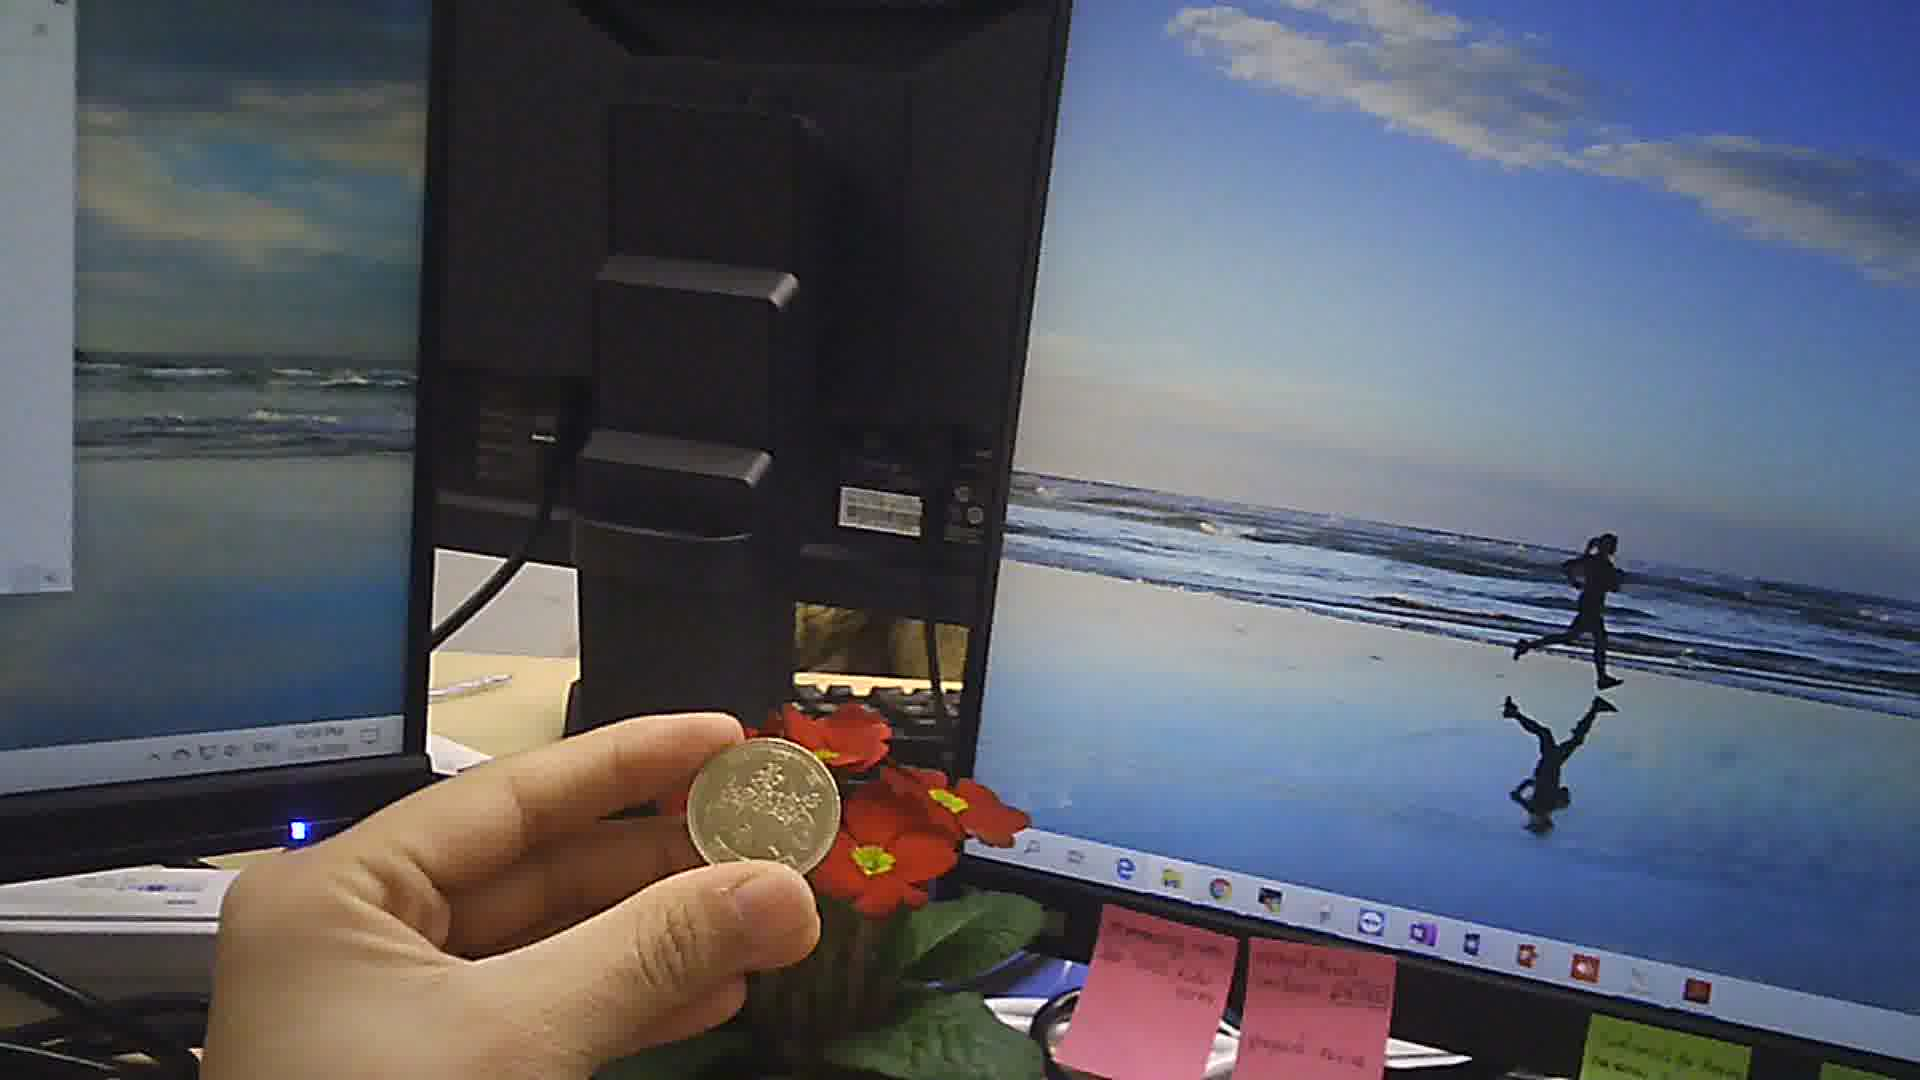500 Yen: (684, 738, 843, 874)
